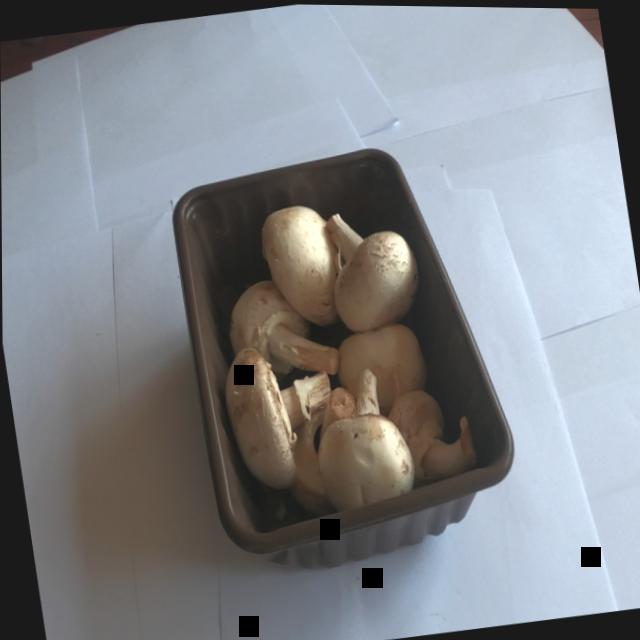Buttonmushroom: (82, 67, 580, 638)
